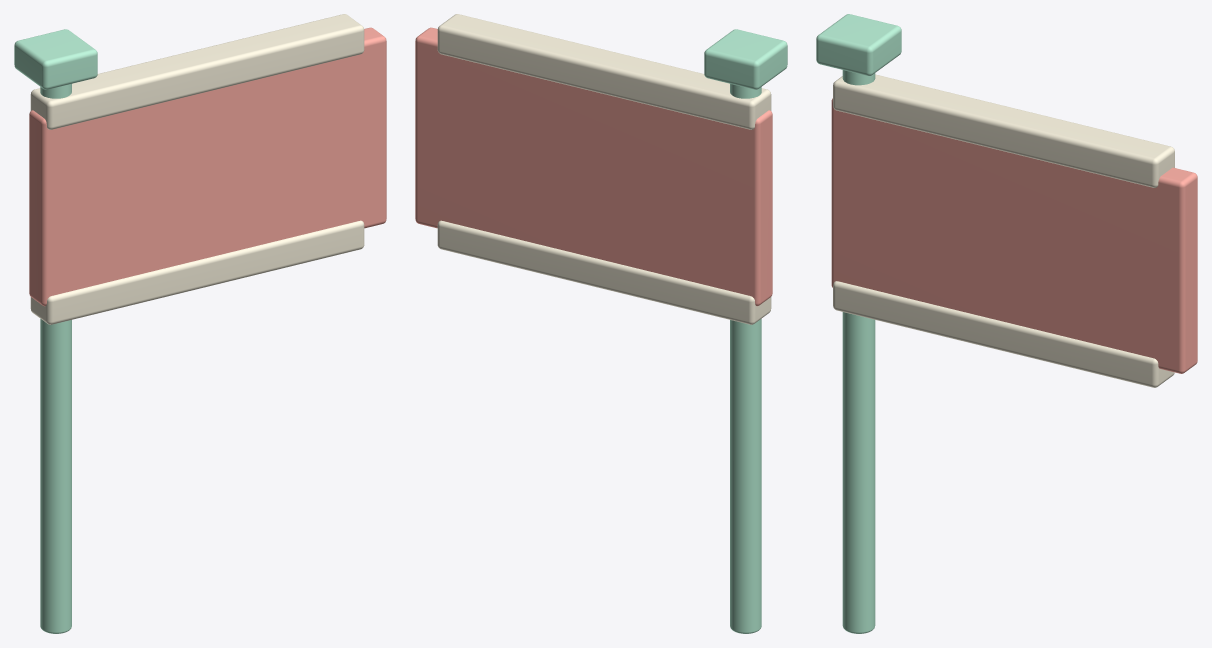
The model's file is goal_candy_pennant.glb.
The picture shows the model from 3 angles, left to right: view 1: azimuth 30°, elevation 25°; view 2: azimuth 150°, elevation 25°; view 3: azimuth 330°, elevation 25°; orthographic projection. The views are drawn at different scales.
Parts seen in each view (by area): view 1: Pennant, CreamTopTrim, MintPole, CreamTrim, MintCap; view 2: Pennant, CreamTopTrim, MintPole, CreamTrim, MintCap; view 3: Pennant, CreamTopTrim, MintPole, CreamTrim, MintCap.
Boxes of the visible parts, x1,y1,x2,y2 form: Pennant: (29,27,386,306); CreamTopTrim: (30,14,364,129); MintPole: (40,84,71,633); CreamTrim: (30,220,364,324); MintCap: (14,29,97,89); Pennant: (415,27,772,306); CreamTopTrim: (437,14,771,129); MintPole: (730,84,761,633); CreamTrim: (437,220,771,324); MintCap: (704,29,787,89); Pennant: (831,98,1197,373); CreamTopTrim: (833,74,1174,187); MintPole: (842,70,875,633); CreamTrim: (833,281,1174,387); MintCap: (816,14,901,76).
Bounding box in the file's own units: 1.02 × 1.62 × 0.16.
